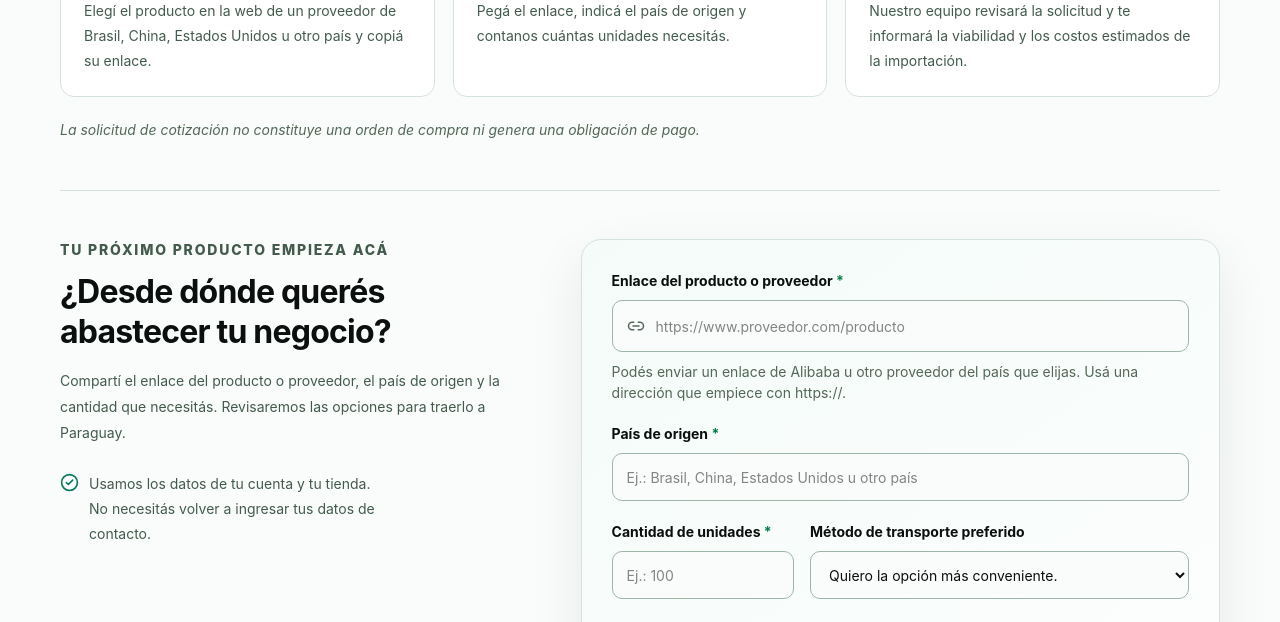
Scenario: una respuesta sin solicitud guardada no produce confirmación
The width and height of the screenshot is (1280, 622).
(page scrolled)
In the field labelled "Enlace del producto o proveedor *": point(900, 326) [612, 300, 1189, 352], type "https://www.alibaba.com/product-detail/Test_123.html"
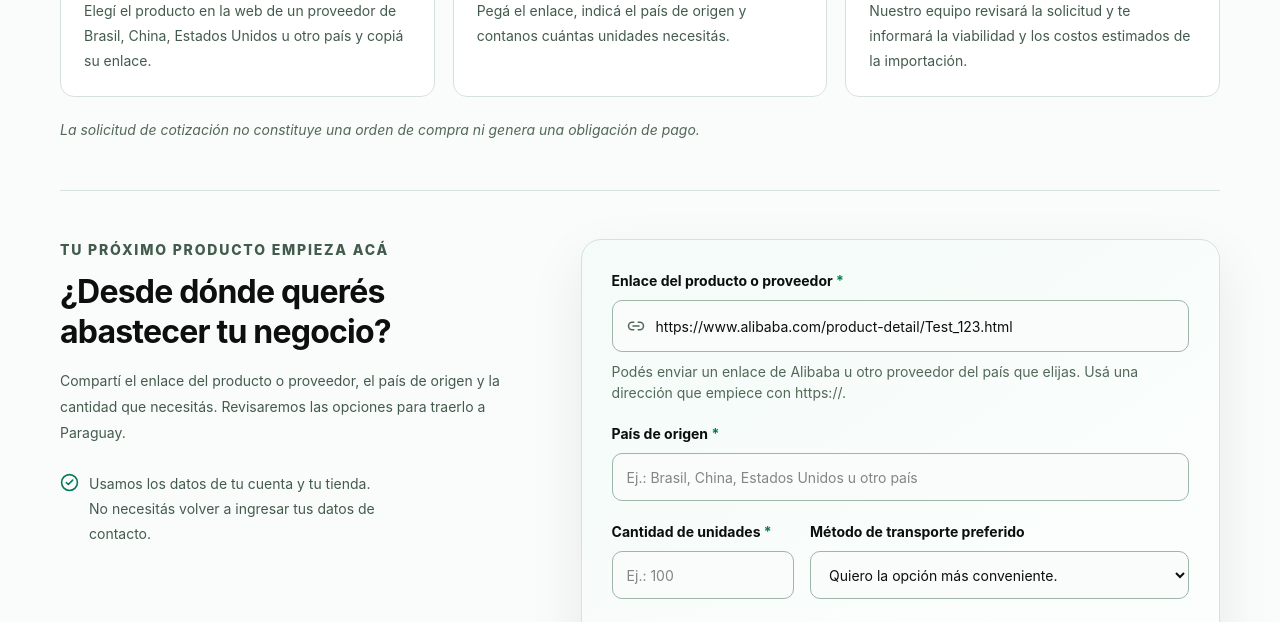
In the number field labelled "Cantidad de unidades *": point(703, 575) [612, 551, 794, 599], type "100"
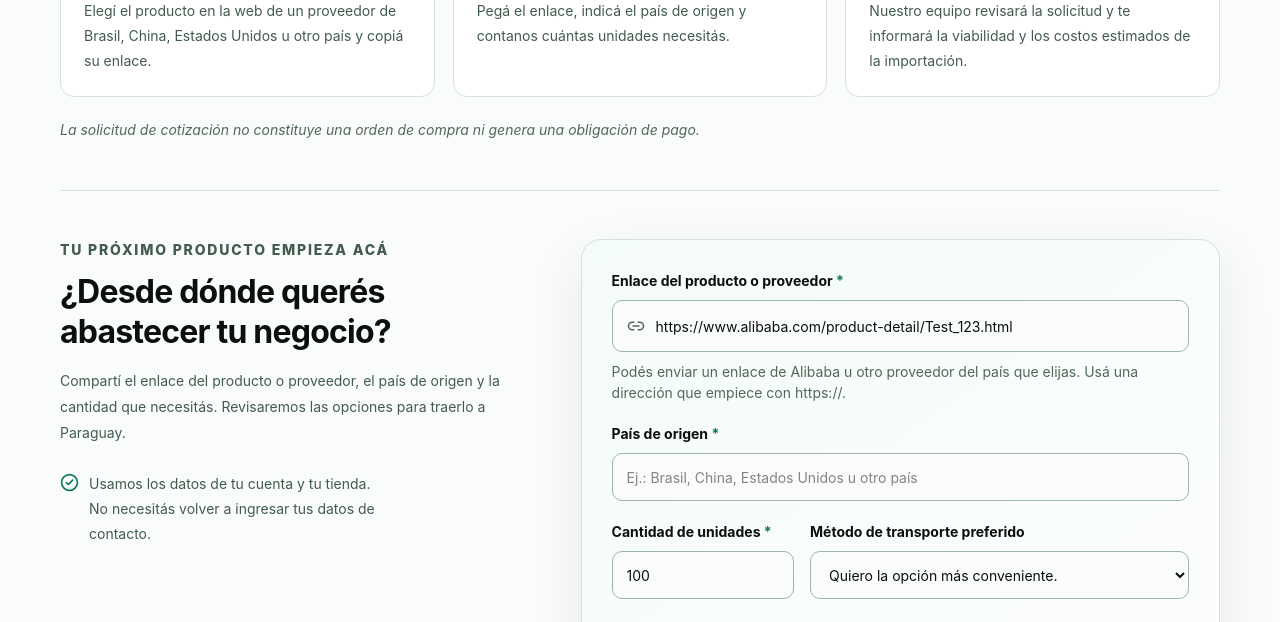
In the field labelled "País de origen *": point(900, 477) [612, 453, 1189, 501], type "Brasil"
(page scrolled)
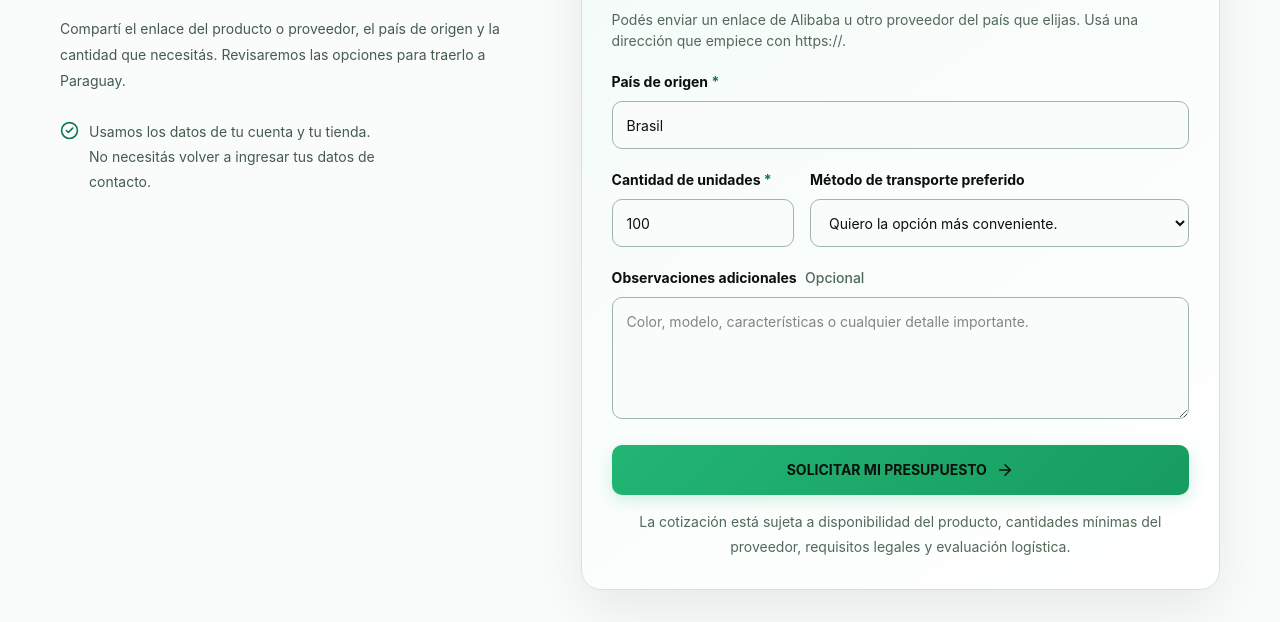
Click the button "SOLICITAR MI PRESUPUESTO": point(900, 470) [612, 444, 1189, 494]
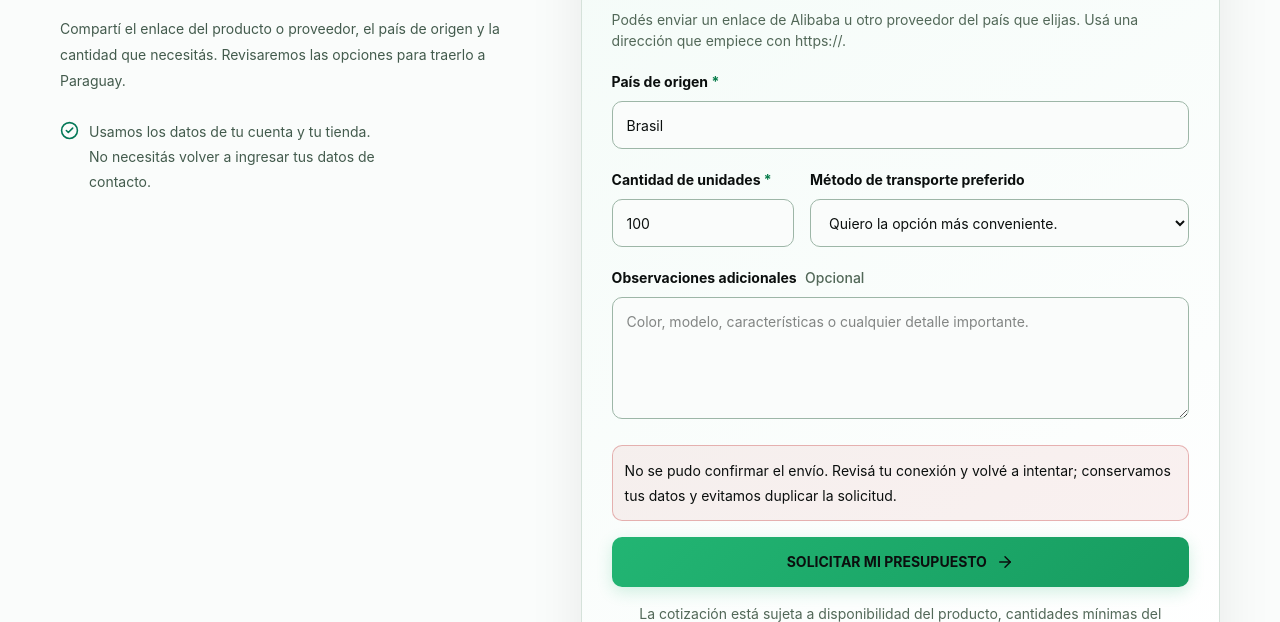
Result: the message is shown at [612, 444, 1189, 521]
